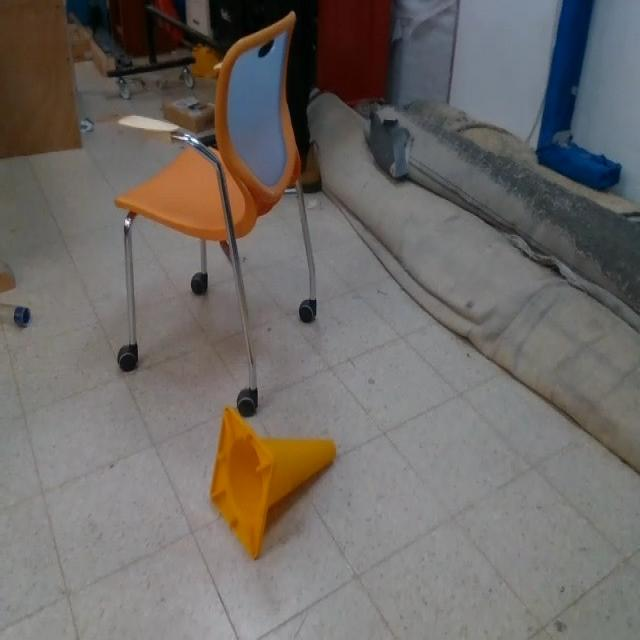cone: (210, 404, 338, 560)
